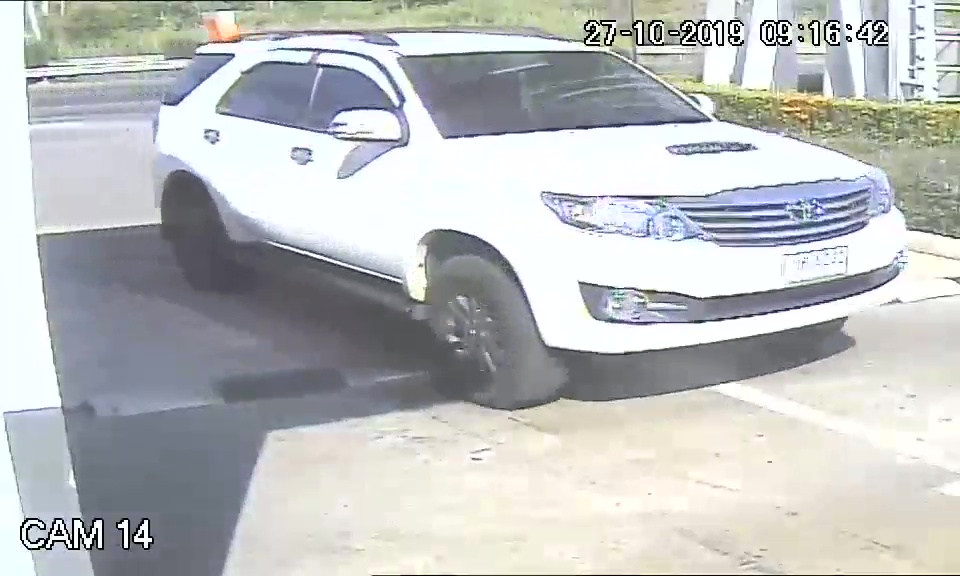pickup: (150, 27, 916, 409)
